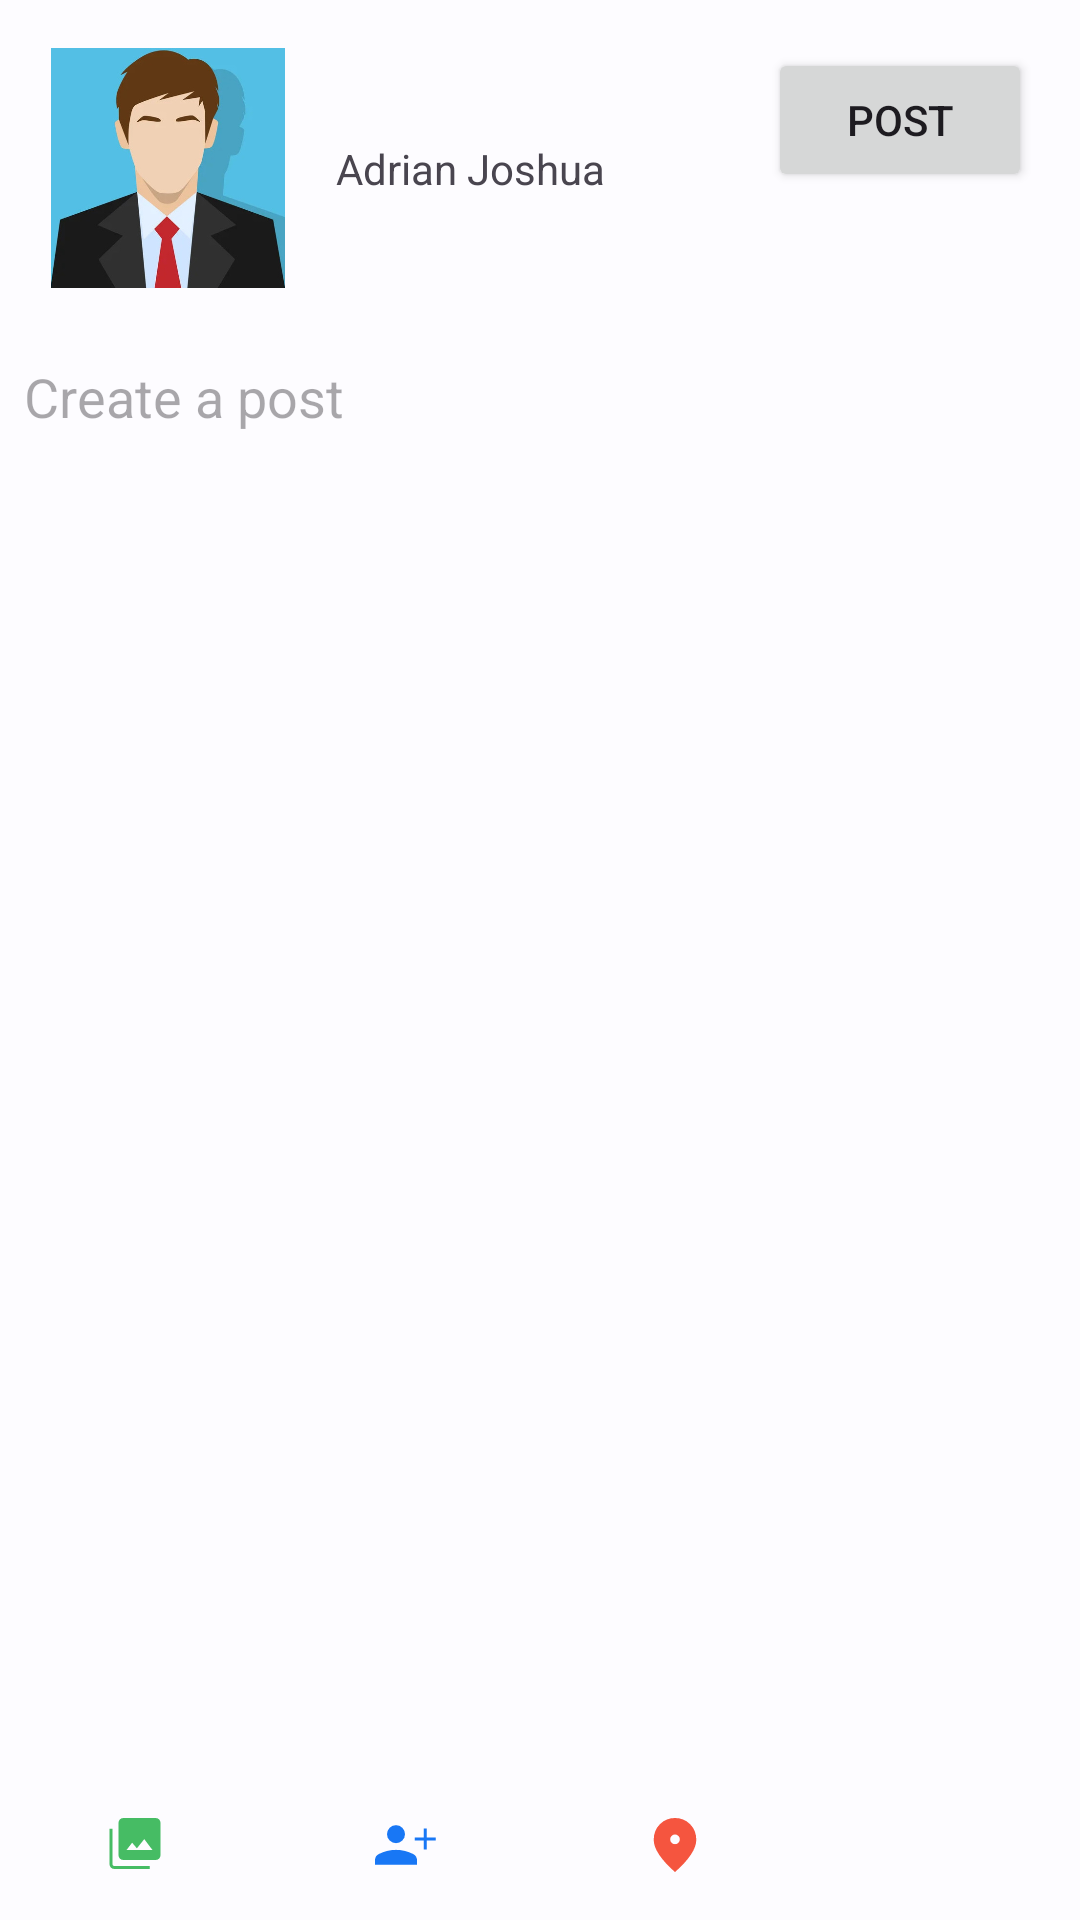

Where icons sit on this 1080px×1920px app screen, as (x1, y1, x2, y2):
location on: (653, 1818, 697, 1872)
person add: (375, 1825, 436, 1865)
photo library: (109, 1818, 161, 1869)
profilepic: (51, 48, 285, 288)
